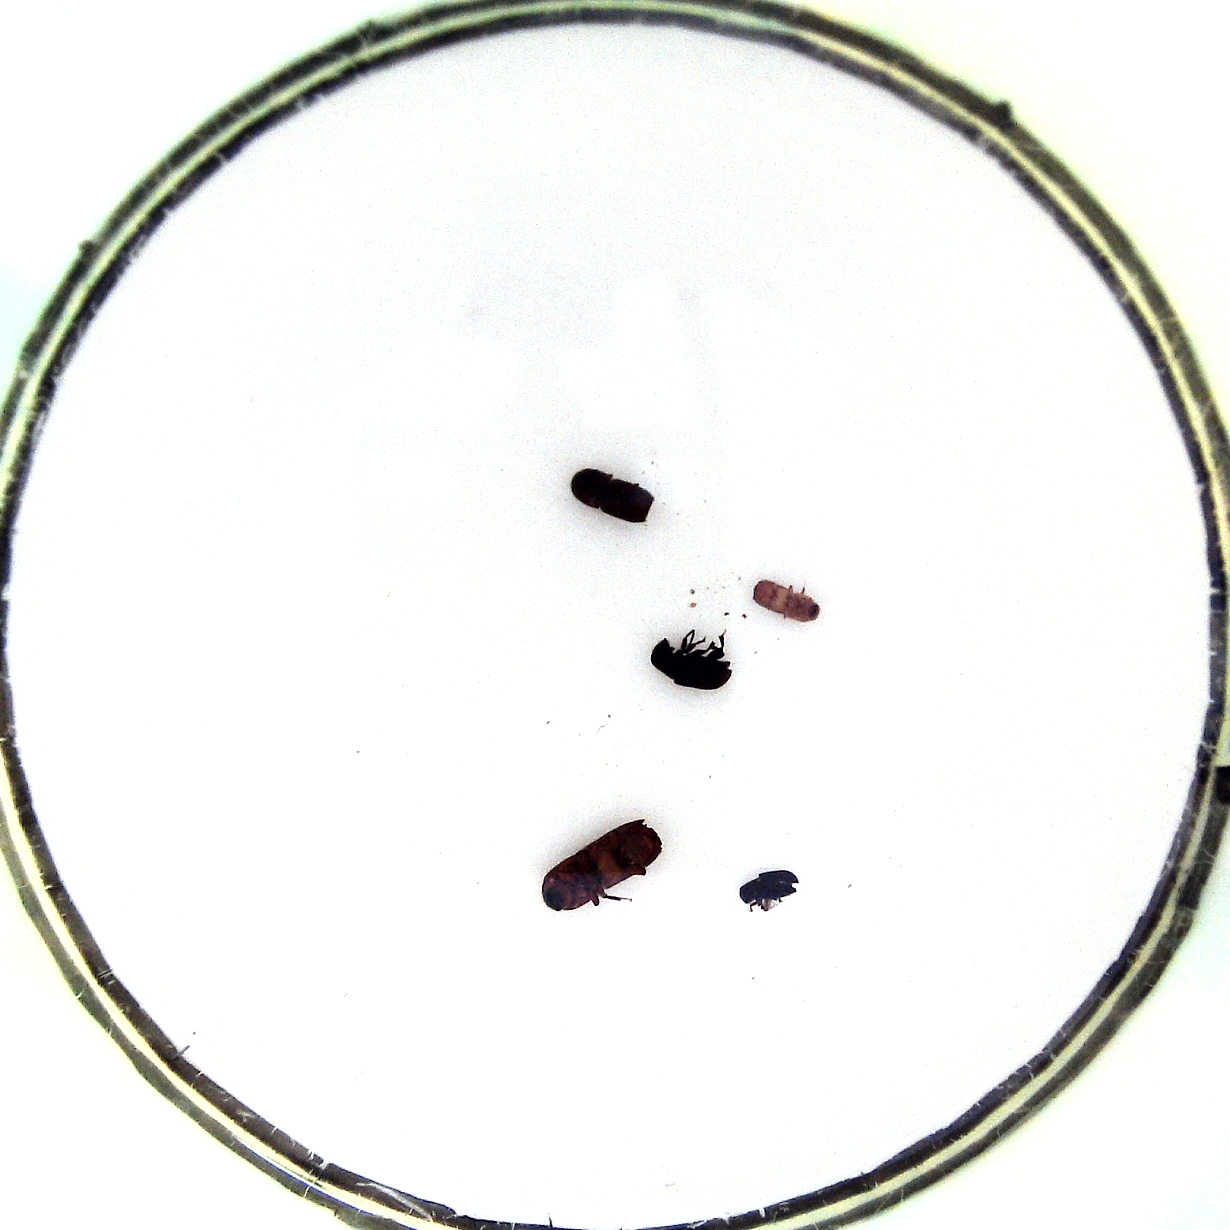Boerner: (540, 815, 669, 918)
Linnaeus: (568, 465, 656, 528)
acuminatus: (750, 577, 827, 624)
armandi: (648, 623, 736, 698)
coleoptera: (736, 864, 806, 915)
